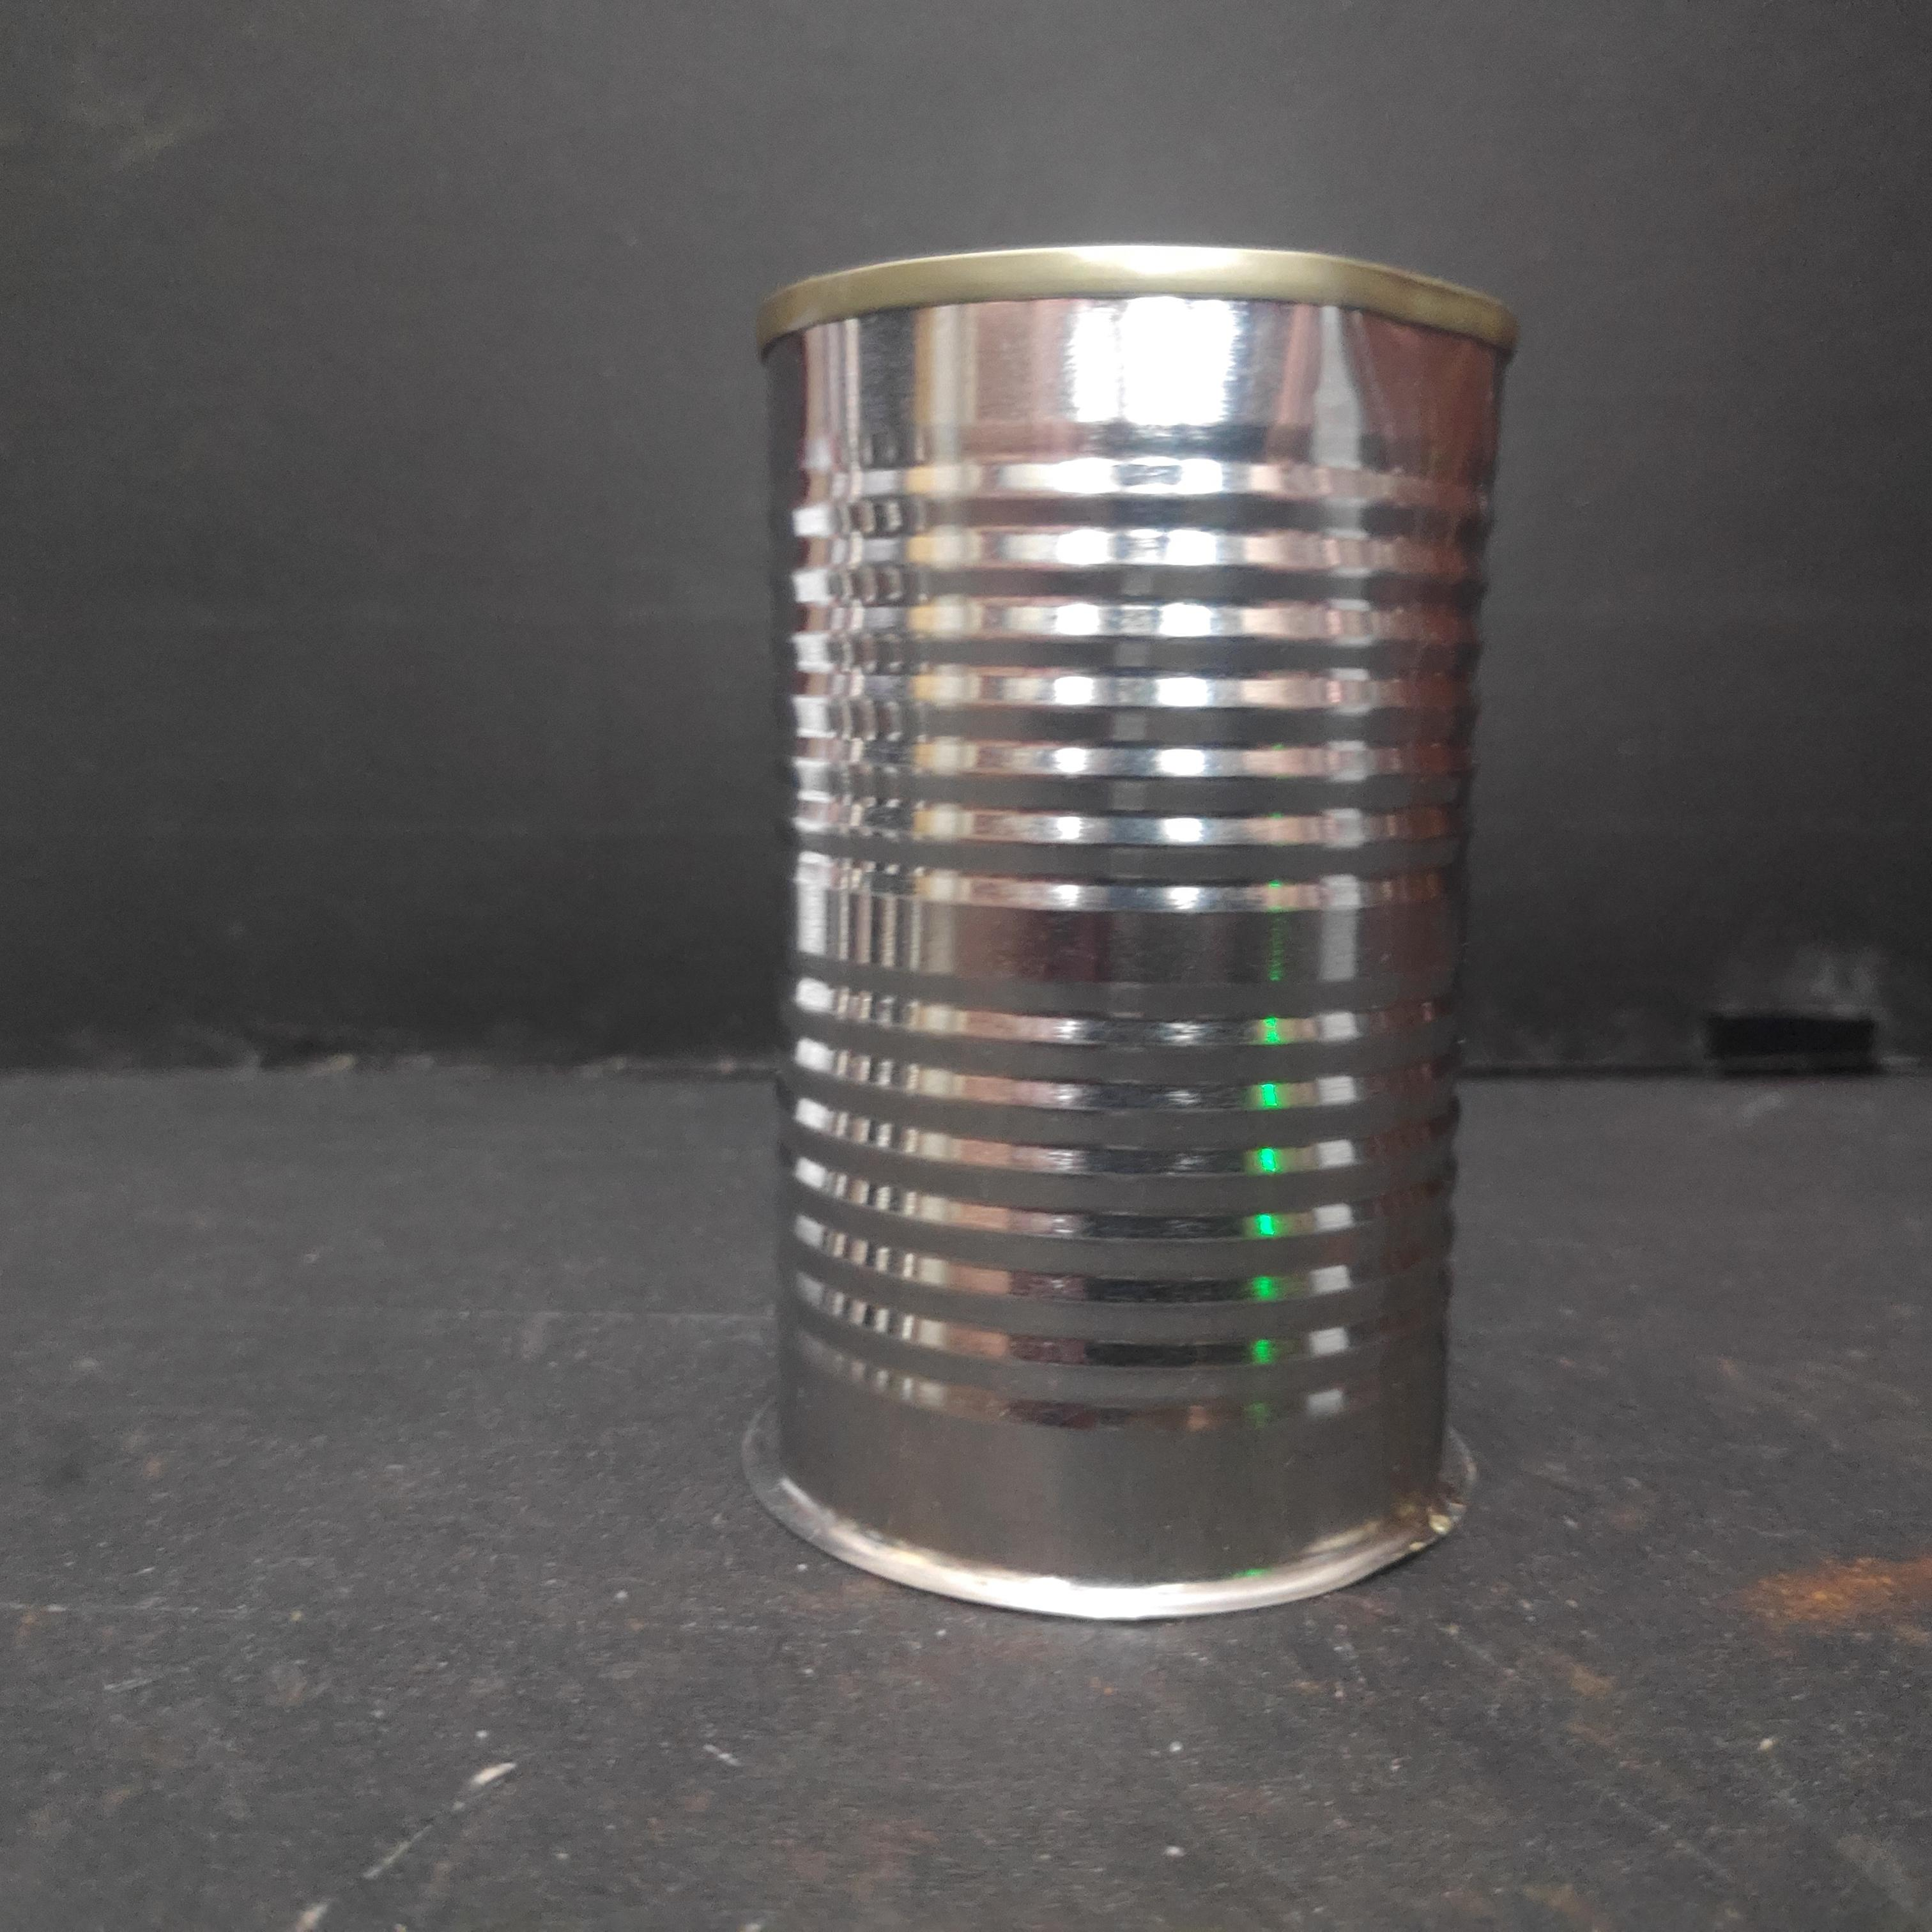Minor Defect: (746, 231, 1534, 1650)
